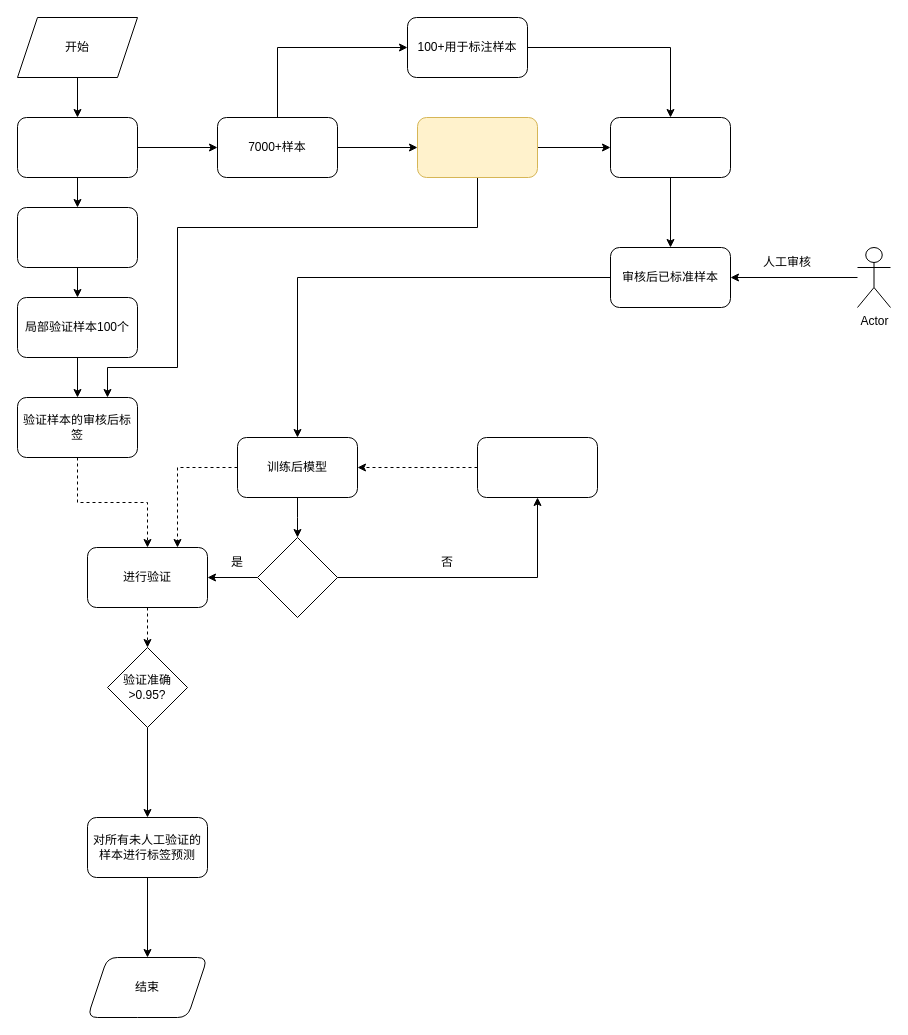
Some shapes in this 908 by 1035 pixel diagram are drawn without their labels. Each missing label, with the box of its shape:
总样本: (16, 116, 138, 178)
标注辅助器: (416, 116, 538, 178)
模型设计: (476, 436, 598, 498)
测试准确>0.95?: (256, 536, 338, 618)
辅助预测结果: (610, 116, 730, 178)
验证样本500个: (16, 206, 138, 268)
